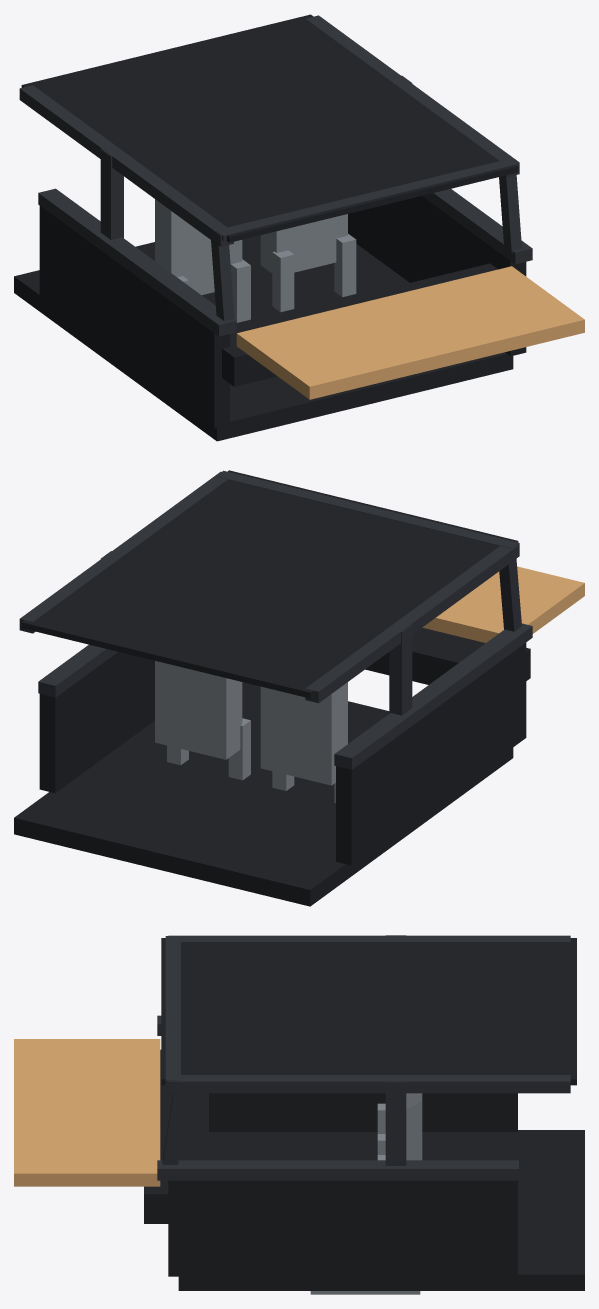
File: duanfeng.glb
3 renders of one model, top to bottom at view 1: azimuth 30°, elevation 25°; view 2: azimuth 150°, elevation 25°; view 3: azimuth 270°, elevation 25°, orthographic.
Parts seen in each view (by area): view 1: headliner, hood, right_wall_lower, floor, left_wall_lower, door_sill_R, roof_rail_R, seat_driver_back, dashboard, seat_passenger_back, roof_rail_L, windshield_header (+7 smaller); view 2: headliner, floor, right_wall_lower, left_wall_lower, seat_passenger_back, seat_driver_back, hood, door_sill_R, roof_rail_R, dashboard, roof_rail_L, windshield_header (+4 smaller); view 3: headliner, left_wall_lower, floor, hood, right_wall_lower, door_sill_L, roof_rail_L, dashboard, roof_rail_R, windshield_header, B_pillar_L, A_pillar_L (+1 smaller).
Part boxes in pixels (x1,y1,x2,y2): headliner: [21, 14, 518, 242]; hood: [236, 266, 584, 399]; right_wall_lower: [39, 206, 229, 428]; floor: [14, 235, 513, 441]; left_wall_lower: [348, 196, 526, 356]; door_sill_R: [38, 188, 236, 336]; roof_rail_R: [19, 85, 233, 246]; seat_driver_back: [155, 199, 242, 295]; dashboard: [222, 263, 497, 386]; seat_passenger_back: [260, 214, 347, 273]; roof_rail_L: [306, 15, 519, 177]; windshield_header: [216, 158, 519, 241]; headliner: [21, 470, 518, 698]; floor: [14, 682, 513, 906]; right_wall_lower: [336, 642, 526, 865]; left_wall_lower: [39, 652, 154, 793]; seat_passenger_back: [155, 661, 242, 759]; seat_driver_back: [260, 682, 347, 785]; hood: [422, 566, 584, 642]; door_sill_R: [334, 623, 532, 769]; roof_rail_R: [305, 544, 519, 703]; dashboard: [365, 627, 530, 684]; roof_rail_L: [19, 471, 227, 633]; windshield_header: [216, 470, 519, 548]; headliner: [161, 938, 576, 1085]; left_wall_lower: [168, 1180, 517, 1276]; floor: [178, 1130, 584, 1290]; hood: [14, 1039, 160, 1186]; right_wall_lower: [209, 1093, 517, 1131]; door_sill_L: [157, 1160, 518, 1180]; roof_rail_L: [168, 1075, 570, 1093]; dashboard: [144, 1049, 208, 1223]; roof_rail_R: [168, 935, 570, 941]; windshield_header: [165, 936, 180, 1086]; B_pillar_L: [385, 1082, 406, 1165]; A_pillar_L: [162, 1080, 188, 1164].
Size of the model in its own units: 1.78 by 1.31 by 2.81.
